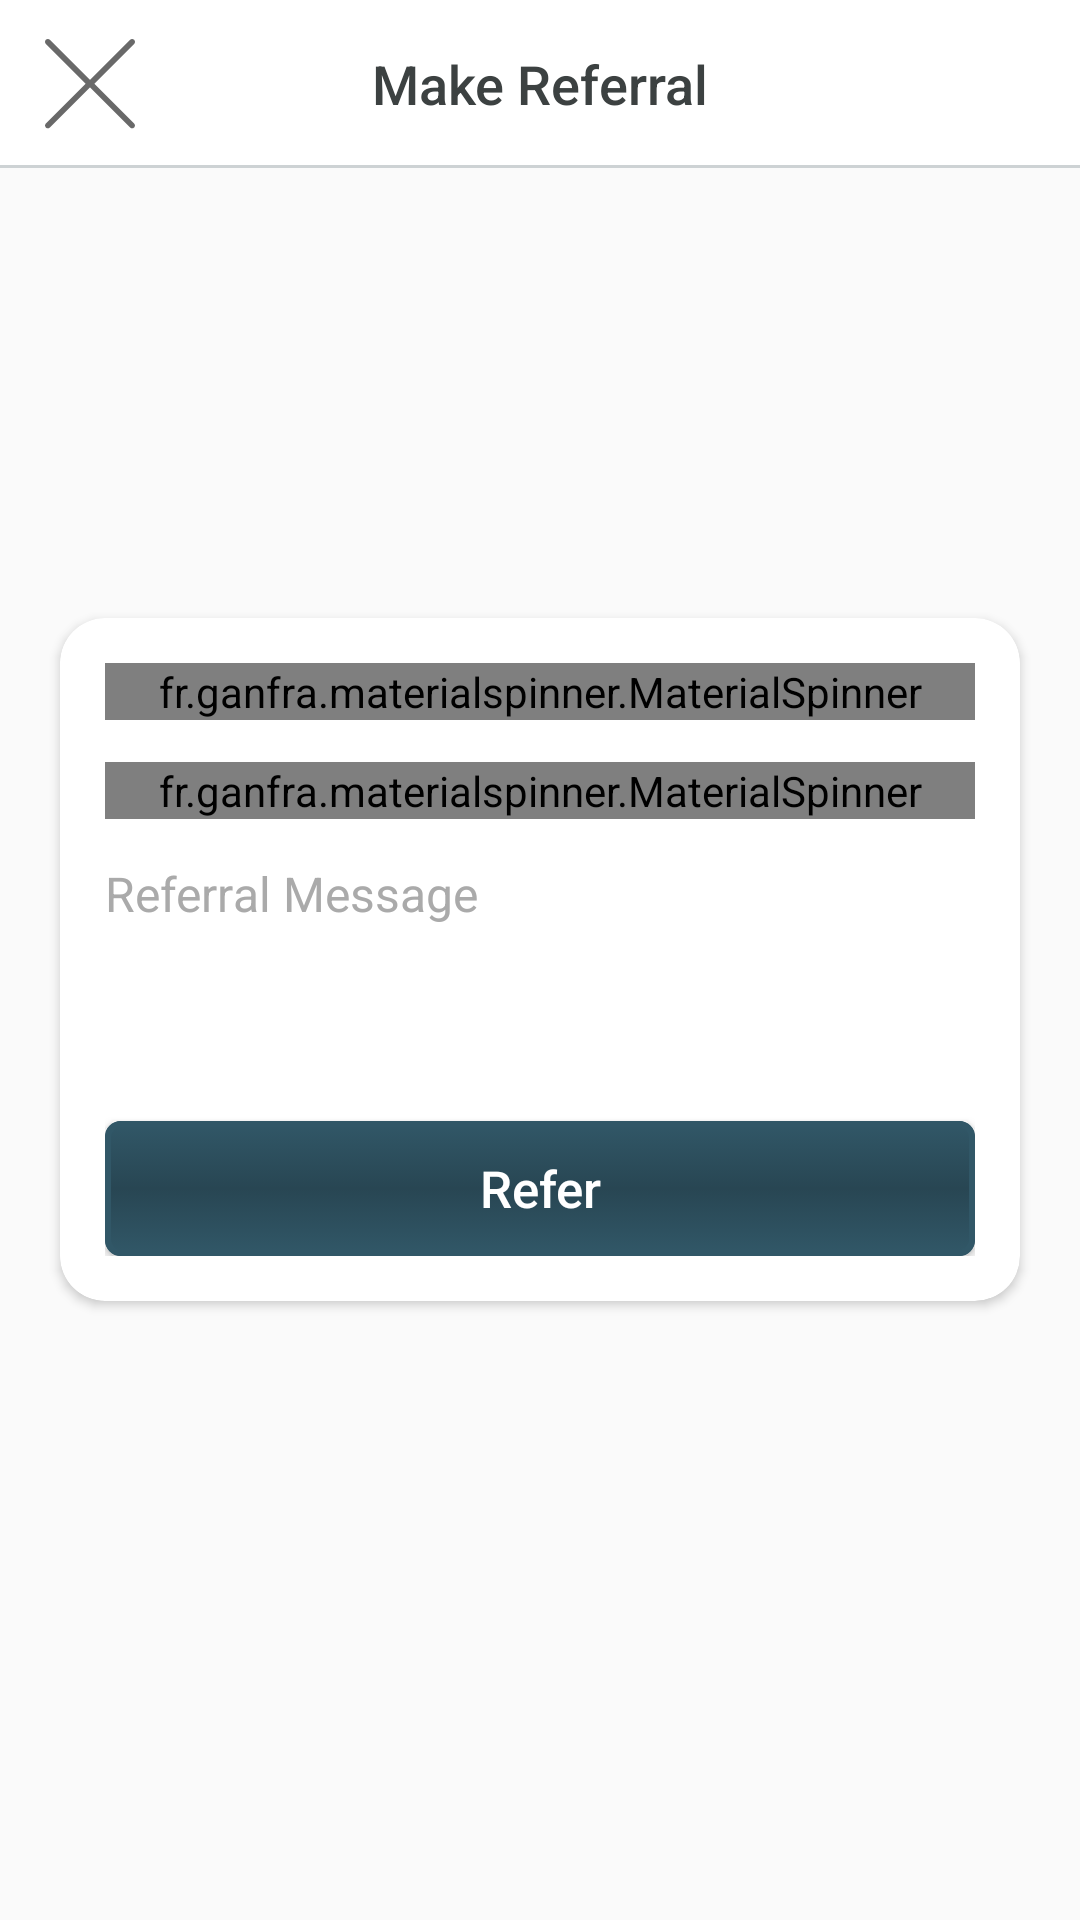

Named icons in this screenshot (1080×1920) and their bounding boxes, (x1, y1, x2, y2):
Button toclose dialog of creating new appointment: (45, 39, 135, 129)
